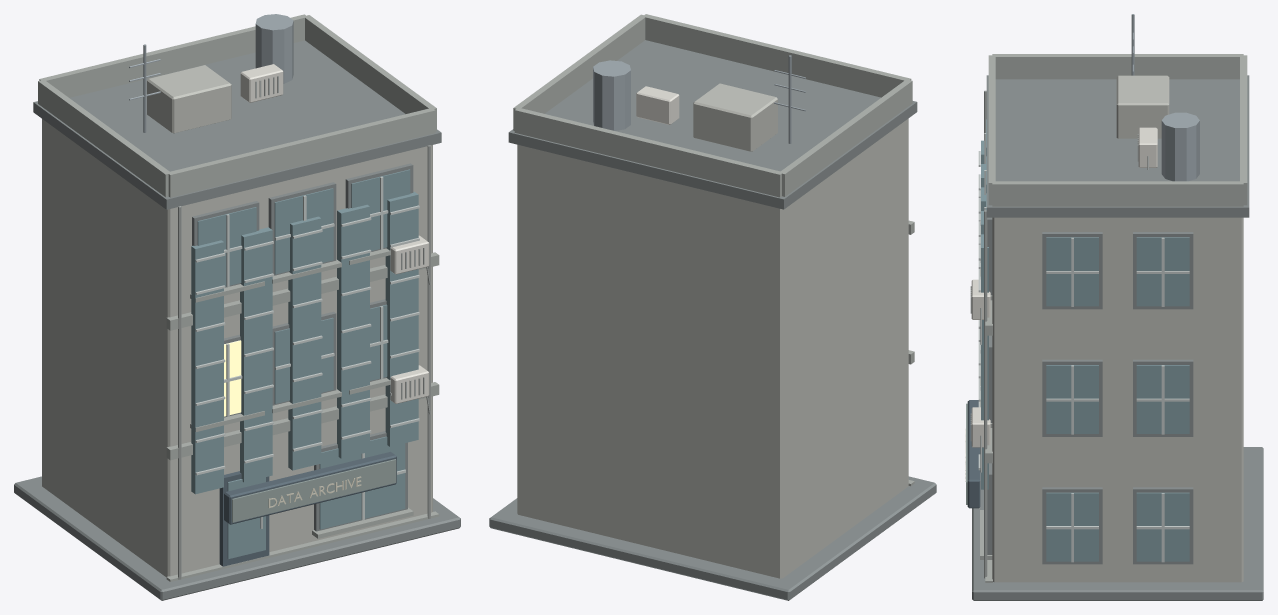
File: SM_ENV_Building_08_DataCenter.glb
The picture shows the model from 3 angles, left to right: view 1: azimuth 30°, elevation 25°; view 2: azimuth 150°, elevation 25°; view 3: azimuth 270°, elevation 25°; orthographic projection.
Parts seen in each view (by area): view 1: SM_ENV_Building_08_DataCenter; view 2: SM_ENV_Building_08_DataCenter; view 3: SM_ENV_Building_08_DataCenter.
Boxes of the visible parts, box(x1,y1,x2,y2) form: SM_ENV_Building_08_DataCenter: box(14, 14, 460, 600); SM_ENV_Building_08_DataCenter: box(489, 14, 936, 600); SM_ENV_Building_08_DataCenter: box(965, 14, 1263, 600).
Size of the model in its own units: 6.8 by 10.4 by 5.94.
